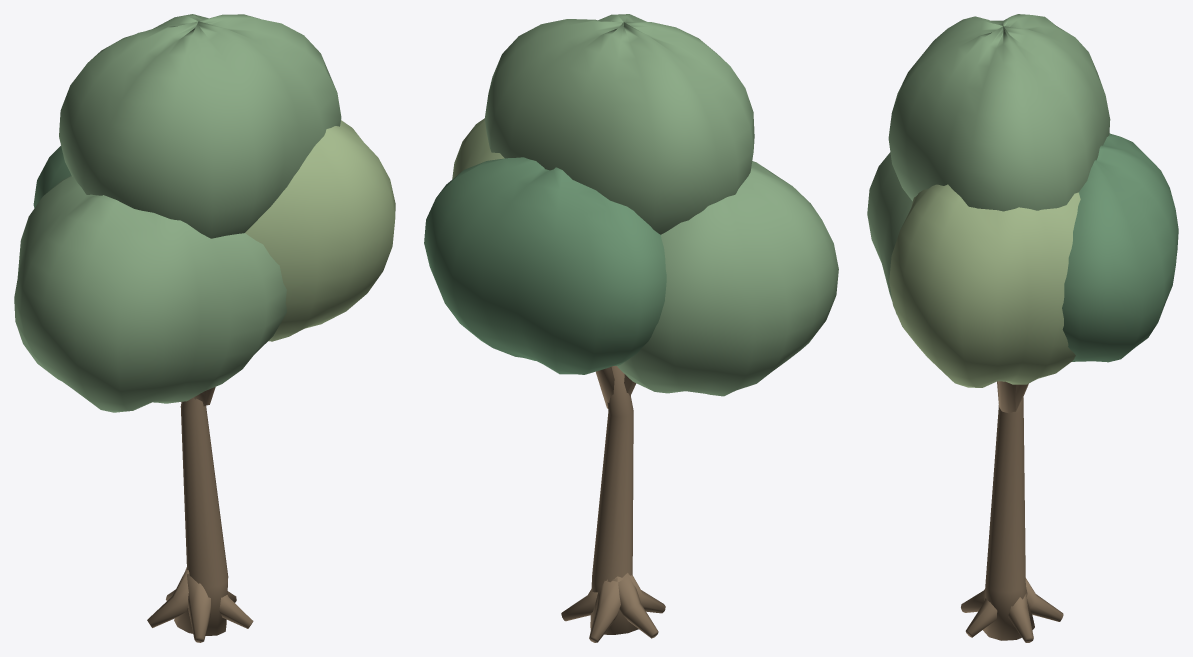
The model's file is SM_Broadleaf_04_UV_0038.fbx.
The picture shows the model from 3 angles, left to right: view 1: azimuth 30°, elevation 25°; view 2: azimuth 150°, elevation 25°; view 3: azimuth 270°, elevation 25°; orthographic projection.
Parts seen in each view (by area): view 1: SM_Broadleaf_04_UV_0038; view 2: SM_Broadleaf_04_UV_0038; view 3: SM_Broadleaf_04_UV_0038.
Part boxes in pixels (<box>): SM_Broadleaf_04_UV_0038: <box>14,14,395,642</box>; SM_Broadleaf_04_UV_0038: <box>424,14,838,642</box>; SM_Broadleaf_04_UV_0038: <box>867,14,1178,642</box>.
Bounding box in the file's own units: 817 × 616 × 1314.
